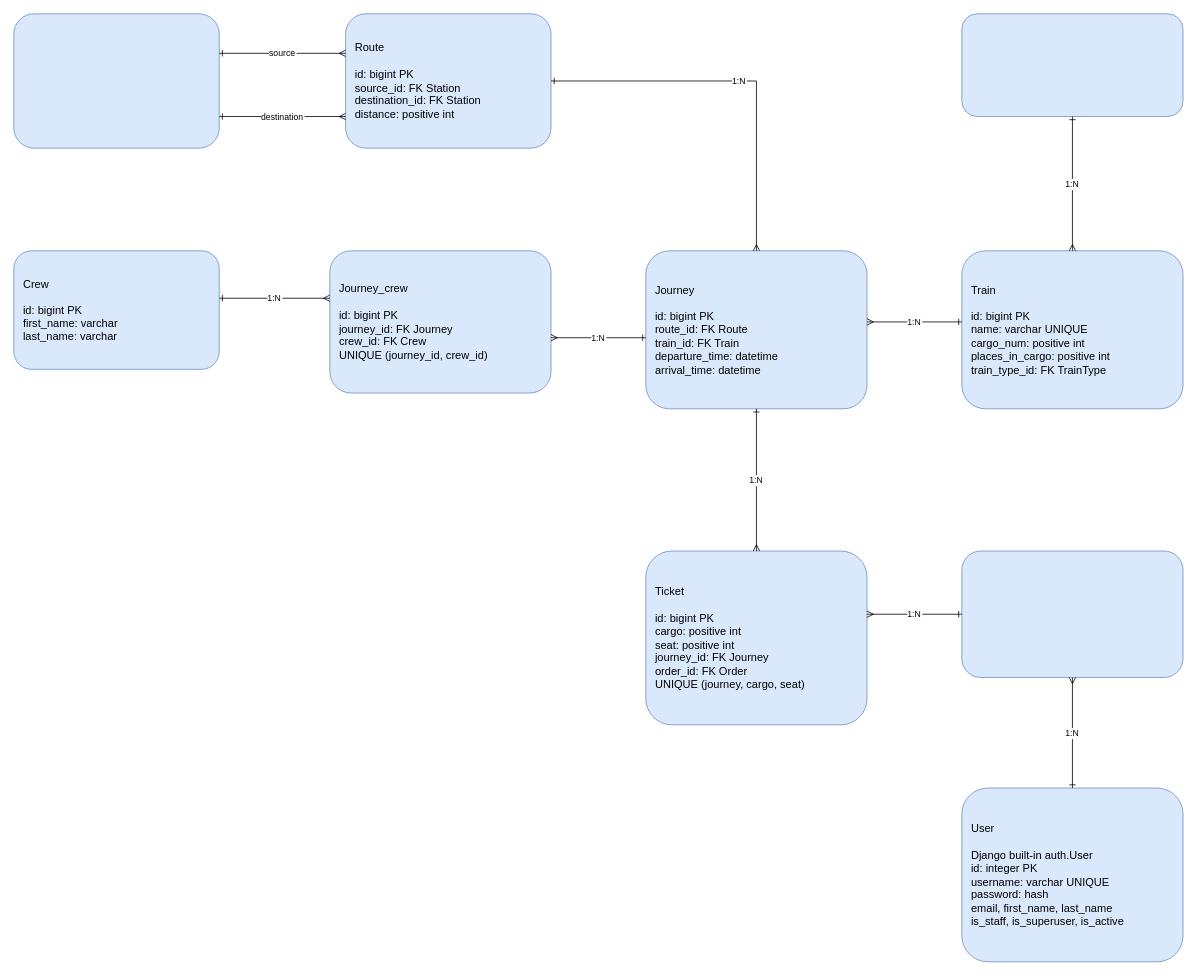
Image size: 1197x976. Some labels were removed from this diagram. The centre of each missing label's shape, as x and y in pixels:
Order id: bigint PK created_at: datetime user_id: FK User: pixel 1072 613
Station id: bigint PK name: varchar UNIQUE latitude: float longitude: float: pixel 116 80
TrainType id: bigint PK name: varchar UNIQUE: pixel 1072 65
